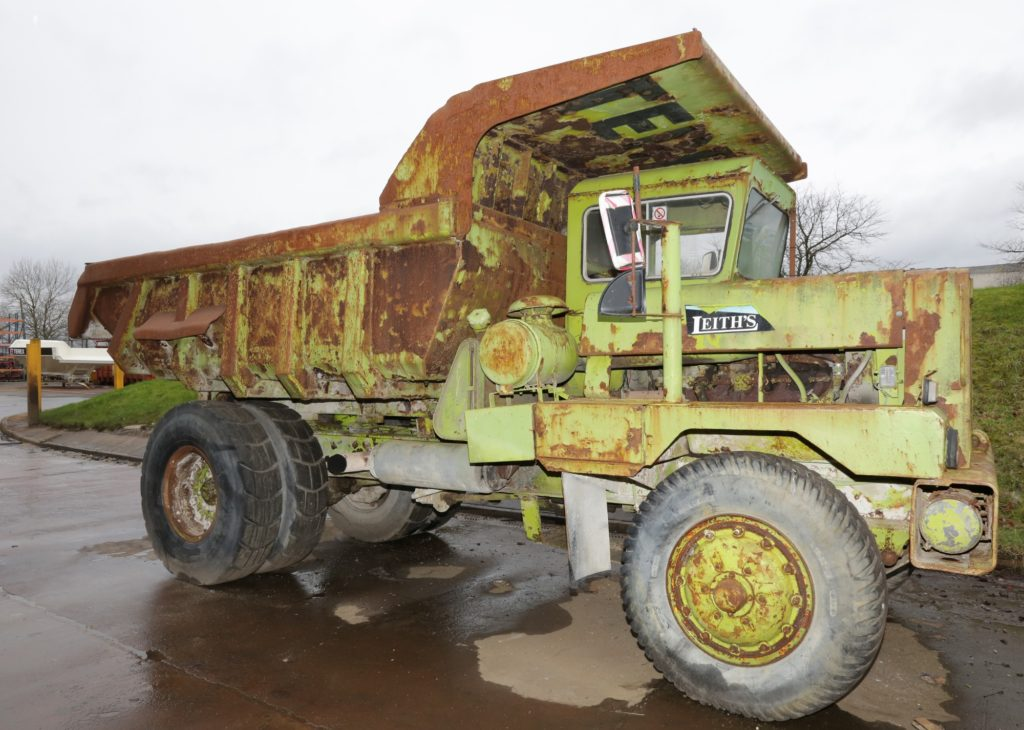truck: (77, 68, 985, 721)
